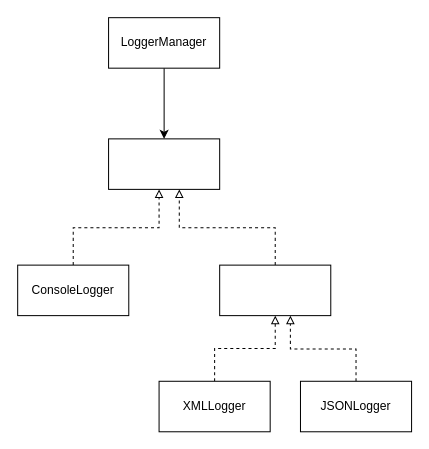
Some shapes in this 429 by 449 pixel diagram are drawn without their labels. The shapes that lost their labels are listed below. From the top down, each one's centre as x and y in pixels, then its label:
the point at 164,163: «abstract» SimpleLogger
the point at 275,290: «abstract» FileLogger
